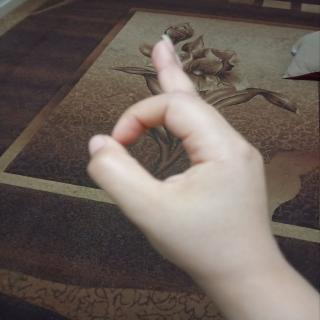Space: (78, 25, 292, 294)
